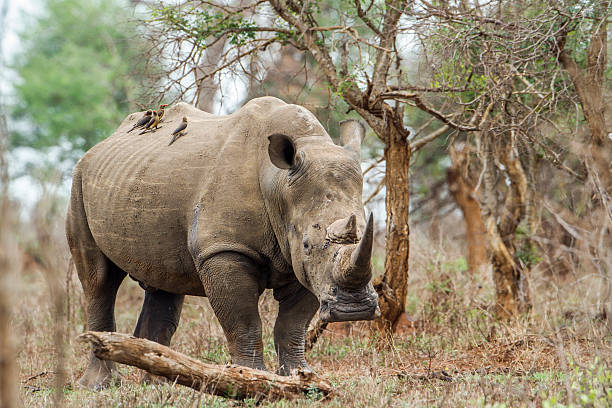rhino: (241, 104, 402, 328)
